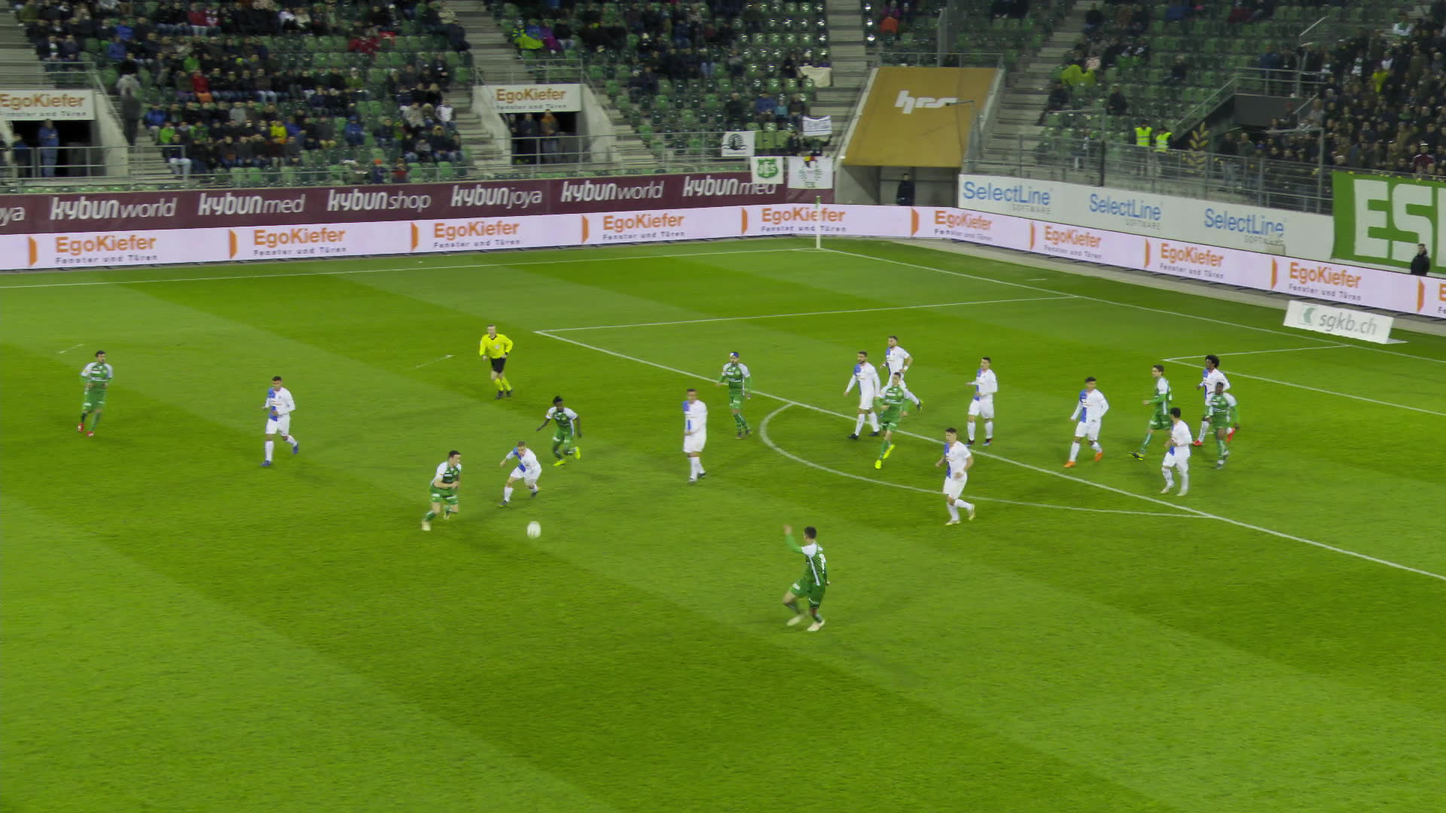ball: (529, 514, 541, 527)
player: (778, 521, 843, 632), (928, 420, 981, 528), (1158, 404, 1207, 496), (1139, 362, 1181, 460), (962, 355, 1004, 451), (1071, 373, 1115, 460), (533, 395, 583, 467), (1191, 356, 1230, 448), (421, 448, 462, 533), (264, 377, 303, 464), (876, 371, 911, 464), (845, 352, 881, 438), (676, 383, 707, 480), (721, 351, 757, 434), (505, 440, 551, 504), (75, 350, 108, 438), (1201, 376, 1234, 463), (883, 336, 914, 418)
referee: (480, 324, 518, 398)
